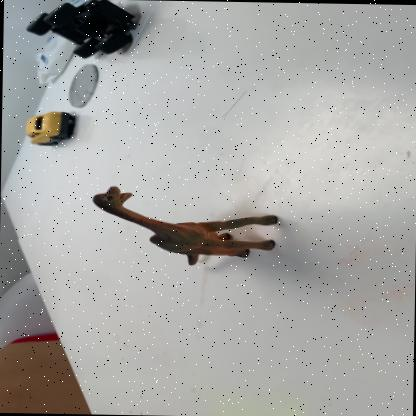brontosaurus: (90, 182, 283, 269)
